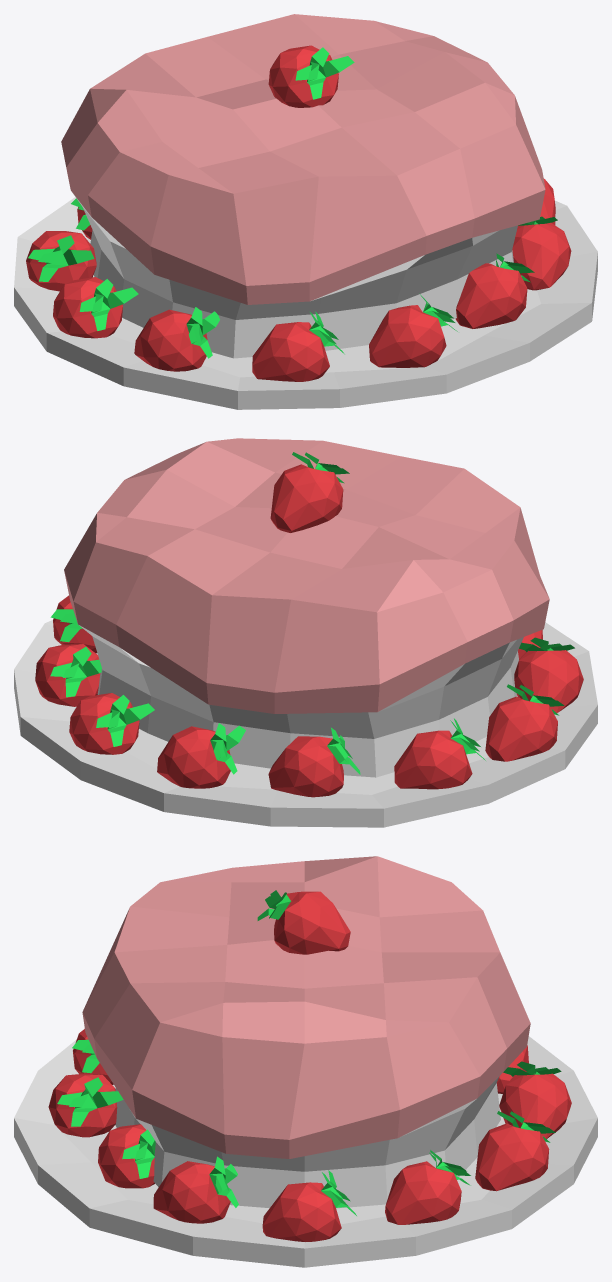
The model's file is StrawberryCake.fbx.
The picture shows the model from 3 angles, top to bottom: view 1: azimuth 30°, elevation 25°; view 2: azimuth 150°, elevation 25°; view 3: azimuth 270°, elevation 25°; orthographic projection.
Visible parts, largest first — view 1: Cylinder, Cylinder.001, Icosphere.011, Icosphere.012, Icosphere.013, Icosphere.010, Icosphere, Icosphere.001, Icosphere.002, Icosphere.008; view 2: Cylinder, Cylinder.001, Icosphere, Icosphere.001, Icosphere.004, Icosphere.003, Icosphere.002, Icosphere.005, Icosphere.013, Icosphere.006, Icosphere.007; view 3: Cylinder, Cylinder.001, Icosphere.005, Icosphere, Icosphere.006, Icosphere.008, Icosphere.007, Icosphere.011, Icosphere.004, Icosphere.010, Icosphere.012.
Part boxes in pixels (x1,y1,x2,y2): Cylinder: (61, 14, 545, 358); Cylinder.001: (14, 197, 597, 409); Icosphere.011: (369, 293, 457, 367); Icosphere.012: (252, 311, 344, 381); Icosphere.013: (134, 307, 219, 371); Icosphere.010: (455, 253, 534, 328); Icosphere: (268, 45, 354, 107); Icosphere.001: (53, 277, 138, 338); Icosphere.002: (26, 231, 96, 291); Icosphere.008: (512, 216, 571, 290); Cylinder: (64, 438, 549, 777); Cylinder.001: (14, 620, 597, 827); Icosphere: (270, 452, 349, 532); Icosphere.001: (485, 684, 564, 761); Icosphere.004: (157, 723, 245, 788); Icosphere.003: (268, 727, 360, 797); Icosphere.002: (394, 718, 485, 789); Icosphere.005: (69, 693, 154, 754); Icosphere.013: (514, 637, 583, 712); Icosphere.006: (35, 644, 101, 706); Icosphere.007: (50, 595, 97, 653); Cylinder: (82, 856, 530, 1208); Cylinder.001: (14, 1036, 597, 1267); Icosphere.005: (475, 1111, 555, 1191); Icosphere: (257, 890, 350, 954); Icosphere.006: (385, 1150, 470, 1224); Icosphere.008: (153, 1156, 238, 1223); Icosphere.007: (262, 1170, 356, 1241); Icosphere.011: (48, 1073, 123, 1137); Icosphere.004: (499, 1061, 571, 1138); Icosphere.010: (98, 1124, 155, 1188); Icosphere.012: (72, 1029, 113, 1084).
Bounding box in the file's own units: 2.6 × 1.18 × 2.49.
